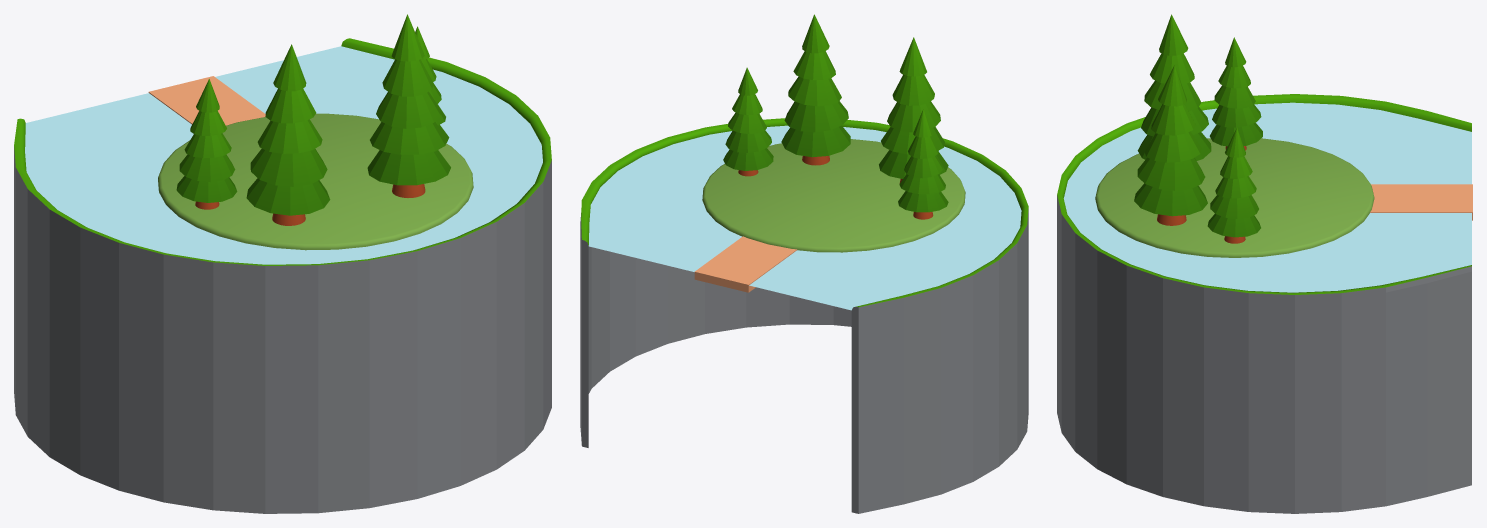
File: dr_fightarea.fbx
3 renders of one model, left to right at view 1: azimuth 30°, elevation 25°; view 2: azimuth 150°, elevation 25°; view 3: azimuth 270°, elevation 25°, orthographic. The views are drawn at different scales.
Visible parts, largest first — view 1: dragons_fightarea; view 2: dragons_fightarea; view 3: dragons_fightarea.
Part boxes in pixels (bbox=[...]): dragons_fightarea: bbox=[14, 14, 551, 513]; dragons_fightarea: bbox=[580, 14, 1028, 513]; dragons_fightarea: bbox=[1057, 14, 1472, 513].
Bounding box in the file's own units: 12.62 × 10.92 × 11.03.
